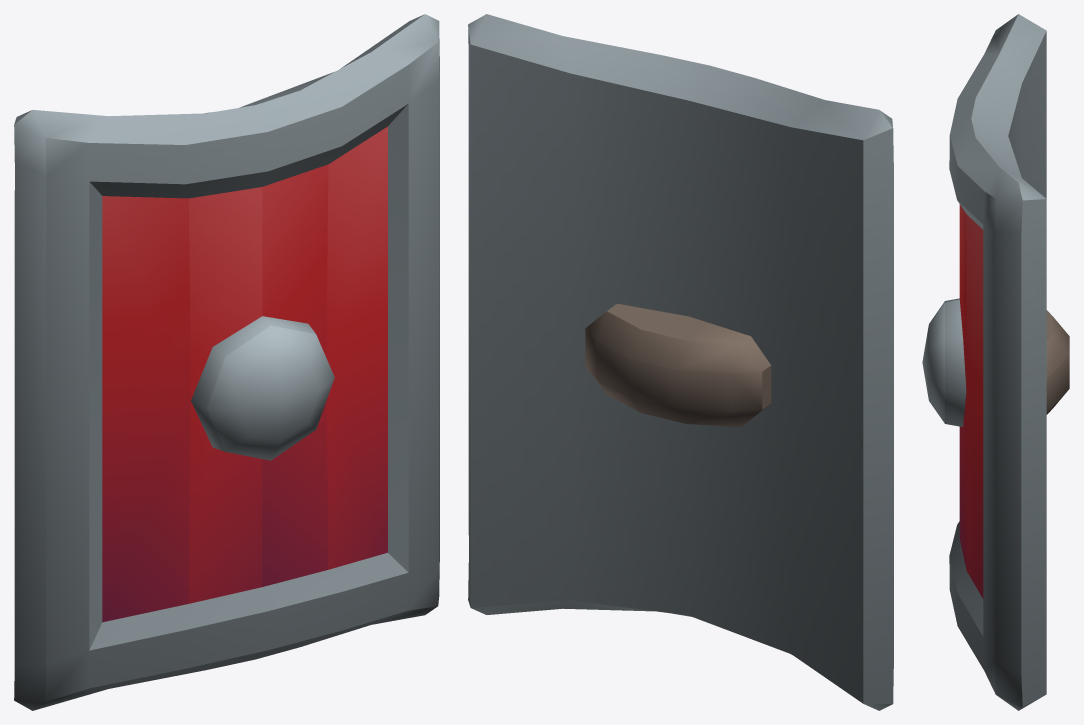
Rendered from shield_square_color.glb.
3 views of the same model, side by side, from view 1: azimuth 30°, elevation 25°; view 2: azimuth 150°, elevation 25°; view 3: azimuth 270°, elevation 25° (orthographic). The views are drawn at different scales.
Parts seen in each view (by area): view 1: shield_square_color; view 2: shield_square_color; view 3: shield_square_color.
Part boxes in pixels (x1,y1,x2,y2): shield_square_color: (14, 14, 439, 710); shield_square_color: (468, 14, 893, 710); shield_square_color: (922, 14, 1069, 710).
Size of the model in its own units: 0.8826 by 1.19 by 0.3011.
Materials: 1 (1 with a texture image).
